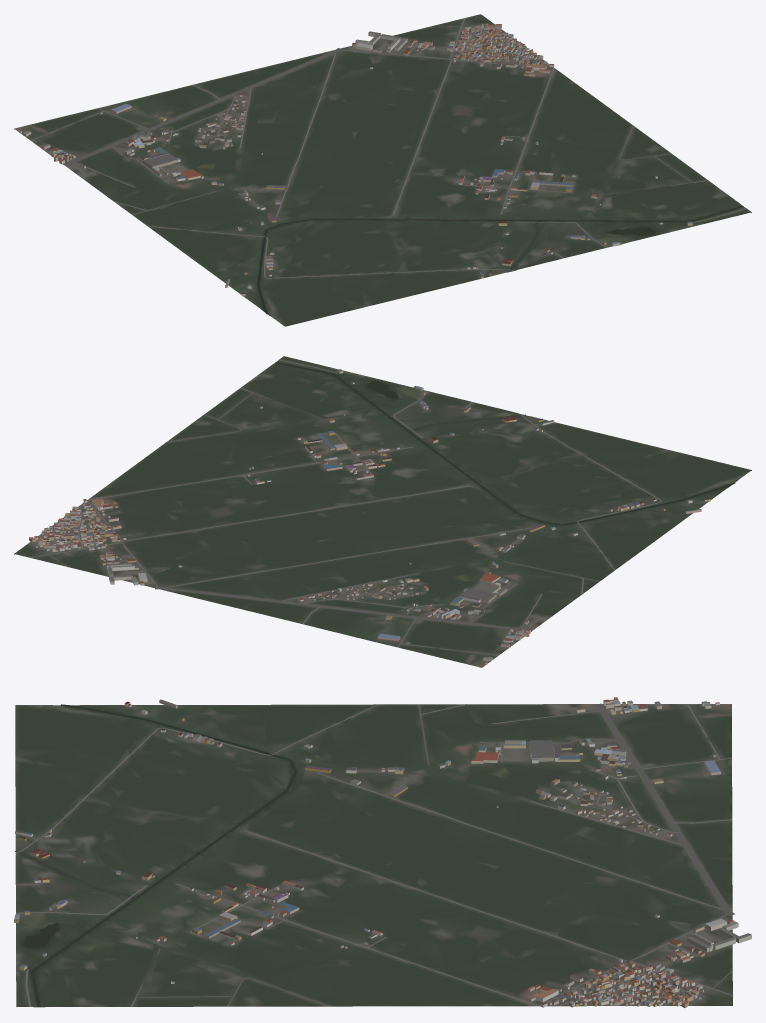
The picture shows the model from 3 angles, top to bottom: view 1: azimuth 30°, elevation 25°; view 2: azimuth 150°, elevation 25°; view 3: azimuth 270°, elevation 25°; orthographic projection. The views are drawn at different scales.
Visible parts, largest first — view 1: ground, buildings, roads, water; view 2: ground, buildings, roads, water; view 3: ground, buildings, roads, water.
Part boxes in pixels (box(x1,y1,x2,y2)): ground: box(14, 14, 751, 326); buildings: box(18, 23, 692, 296); roads: box(31, 18, 746, 278); water: box(257, 205, 743, 314); ground: box(14, 356, 751, 667); buildings: box(29, 369, 710, 664); roads: box(30, 359, 661, 655); water: box(275, 362, 735, 525); ground: box(15, 704, 732, 1007); buildings: box(14, 697, 751, 1007); roads: box(16, 703, 735, 1006); water: box(15, 704, 297, 1007).
Size of the model in its own units: 1420 by 17.11 by 1444.
